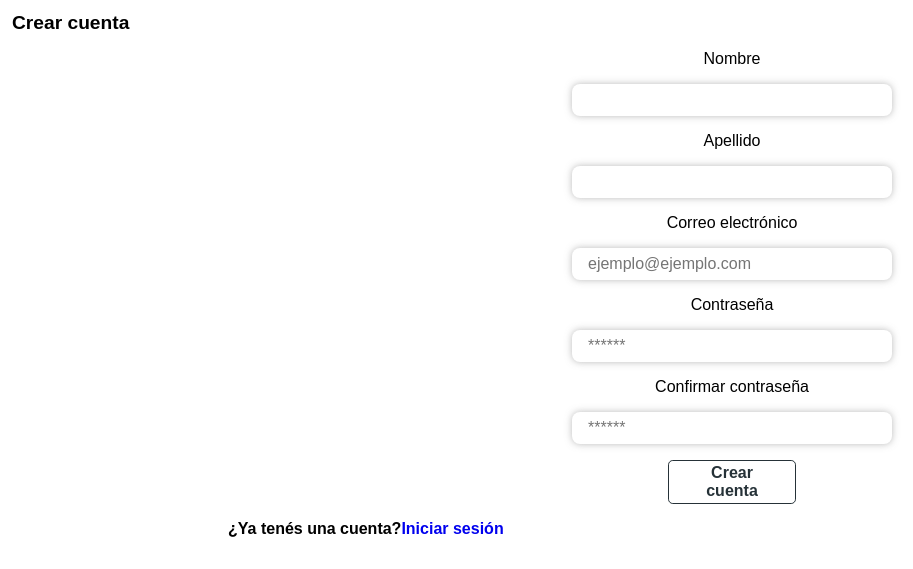
it: Pruebas en <CreateAccount /> › Funcionamiento del mensaje de error en el input "Email"
Type "123" into the field with placeholder "ejemplo@ejemplo.com" at {"x": 732, "y": 264}, box x1=572 y1=248 x2=892 y2=280
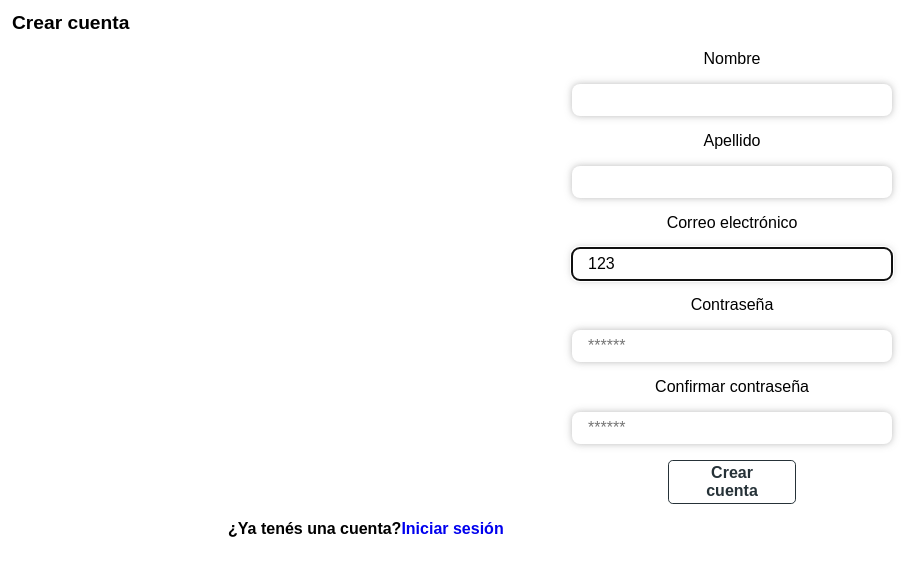
Note: Click en boton 'Crear cuenta' para lanzar error
Click the button "Crear cuenta" at {"x": 732, "y": 482}, box x1=668 y1=460 x2=796 y2=504
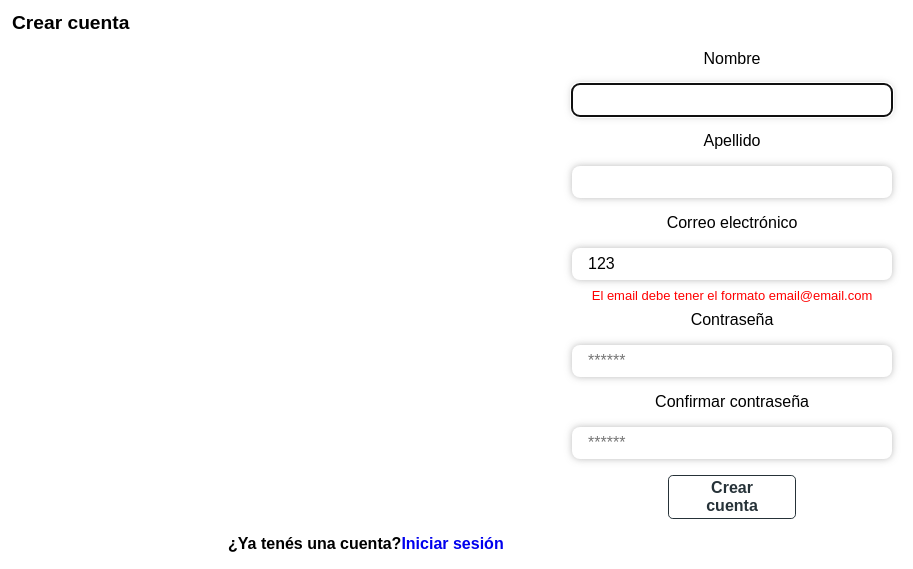
Result: the text "El email debe tener el formato email@email.com" is shown at x1=592 y1=288 x2=872 y2=303
